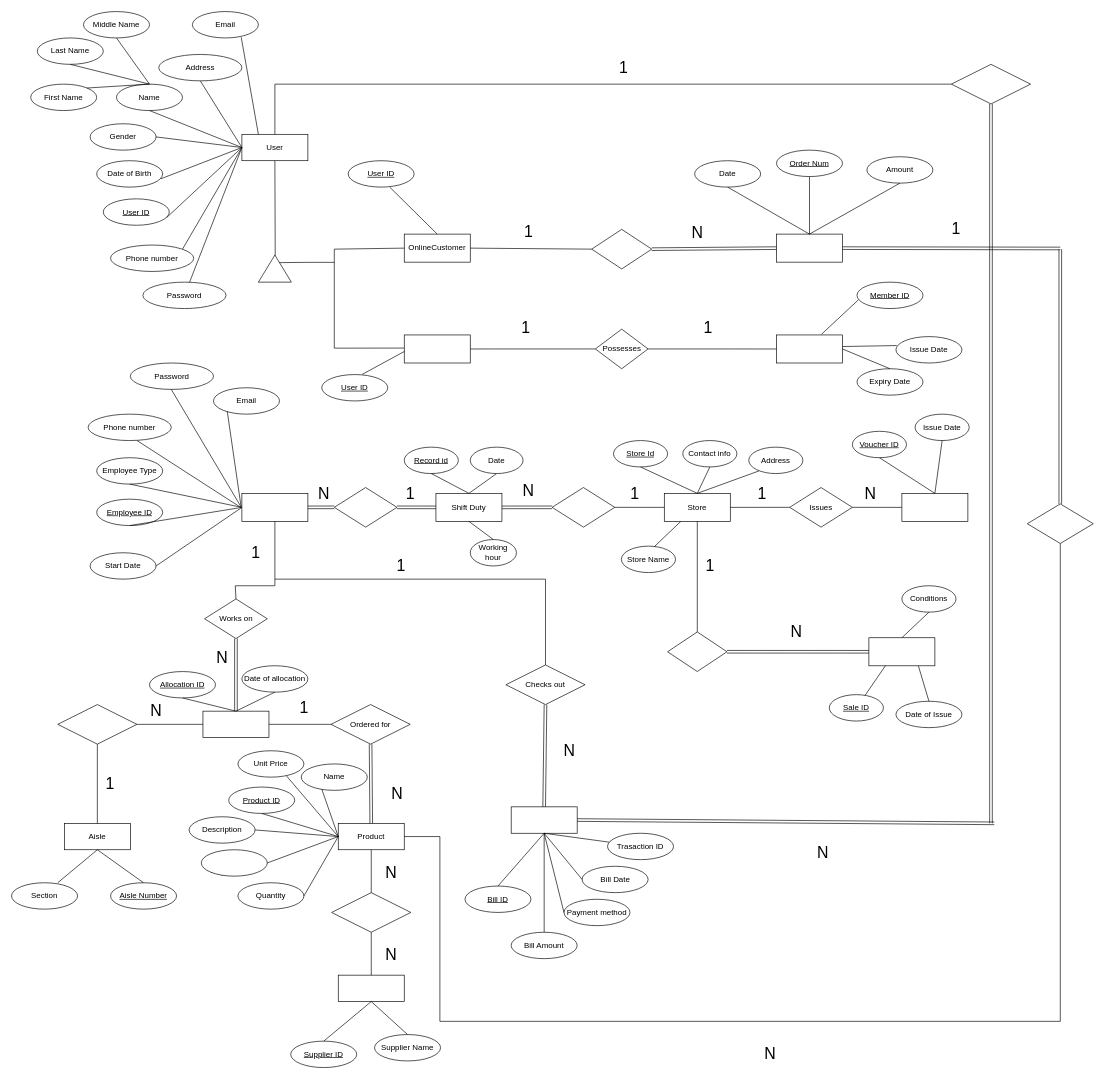
Image size: 1105x1079. Some labels were removed from this diagram. Each missing label, with the box of its shape:
Bill: (511, 806, 577, 833)
Contains: (1027, 503, 1093, 544)
Employee: (241, 493, 308, 521)
Generates: (951, 64, 1031, 104)
ISA: (258, 254, 291, 282)
Membership Card: (776, 334, 842, 363)
Offered by: (551, 487, 615, 527)
Offers: (667, 631, 727, 672)
Orders: (776, 233, 842, 262)
Orders online: (591, 229, 652, 269)
Placed in: (57, 704, 137, 744)
Product type: (201, 849, 267, 876)
Product-Aisle Management: (202, 710, 269, 738)
Sale: (868, 637, 935, 666)
Supplier: (338, 974, 404, 1002)
Supplies: (331, 892, 411, 932)
Voucher: (901, 493, 968, 521)
Walk-in-Customer: (404, 334, 470, 363)
Works: (334, 487, 397, 527)
